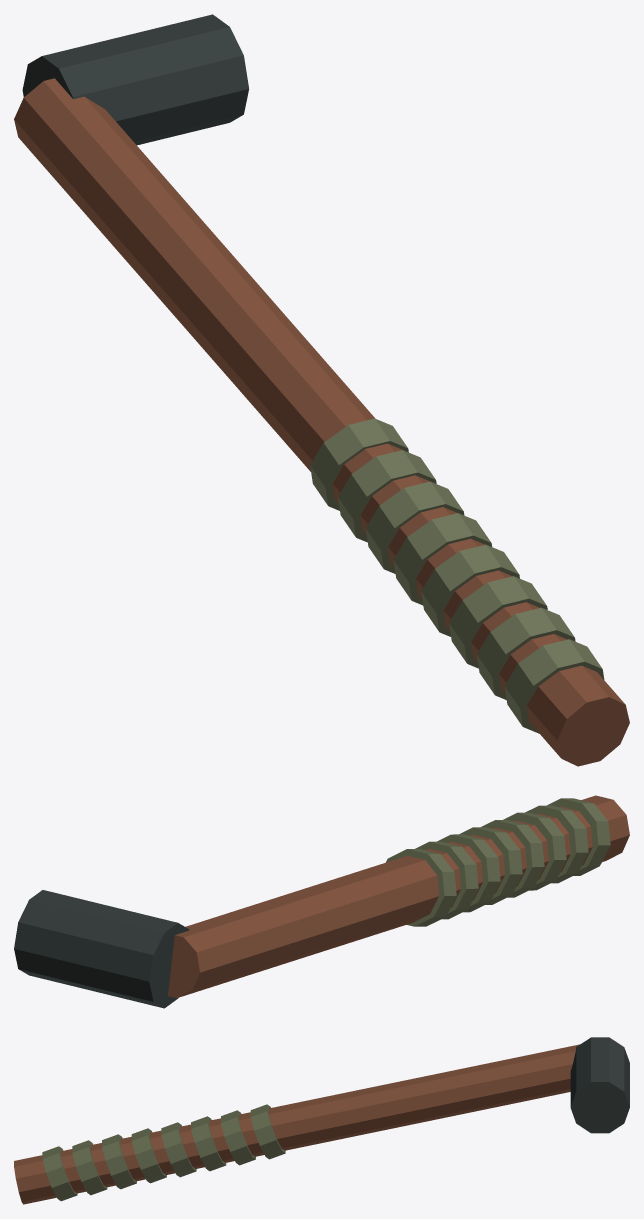
The model's file is scrap_pipe.glb.
3 views of the same model, one above another, from view 1: azimuth 30°, elevation 25°; view 2: azimuth 150°, elevation 25°; view 3: azimuth 270°, elevation 25° (orthographic). The views are drawn at different scales.
Visible parts, largest first — view 1: pipe, elbow, tape, tape.001, tape.002, tape.003, tape.004, tape.005, tape.006, tape.007; view 2: pipe, elbow, tape.007, tape.001, tape, tape.002, tape.003, tape.005, tape.004, tape.006; view 3: pipe, elbow, tape, tape.004, tape.005, tape.003, tape.001, tape.007, tape.002, tape.006.
Part boxes in pixels (x1,y1,x2,y2): pipe: (14, 78, 629, 766); elbow: (22, 14, 248, 145); tape: (504, 639, 604, 733); tape.001: (477, 607, 575, 699); tape.002: (449, 576, 547, 668); tape.003: (421, 544, 519, 636); tape.004: (393, 513, 492, 605); tape.005: (365, 481, 464, 573); tape.006: (338, 450, 436, 542); tape.007: (310, 418, 408, 510); pipe: (168, 795, 629, 998); elbow: (14, 890, 189, 1008); tape.007: (386, 849, 456, 926); tape.001: (525, 805, 588, 883); tape: (547, 798, 610, 875); tape.002: (503, 812, 566, 890); tape.003: (481, 820, 544, 897); tape.005: (437, 834, 500, 912); tape.004: (459, 827, 522, 904); tape.006: (415, 841, 478, 919); pipe: (14, 1044, 579, 1204); elbow: (570, 1037, 629, 1133); tape: (42, 1146, 77, 1201); tape.004: (161, 1122, 196, 1177); tape.005: (191, 1116, 226, 1171); tape.003: (131, 1128, 166, 1183); tape.001: (72, 1140, 107, 1195); tape.007: (250, 1104, 285, 1159); tape.002: (102, 1134, 136, 1189); tape.006: (221, 1110, 255, 1165).
Bounding box in the file's own units: 0.2 × 0.2743 × 0.9322.
